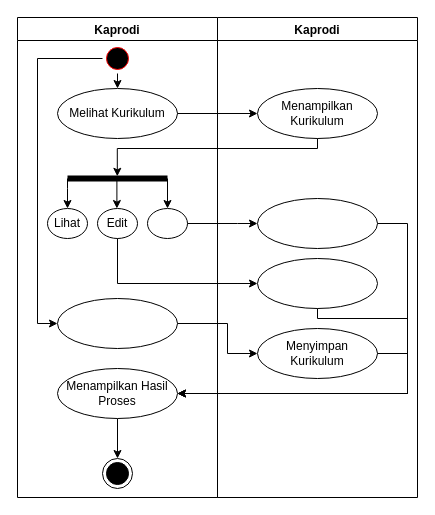
Image size: 435x515. Some labels were removed from this diagram. Here are the shapes that lost their labels. From the top down, the centre of each, then its label:
At point (167, 223): "Hapus".
At point (317, 223): "Menghapus Kurikulum".
At point (317, 283): "Mengupdate Kurikulum".
At point (117, 323): "Menambahkan Kurikulum".
